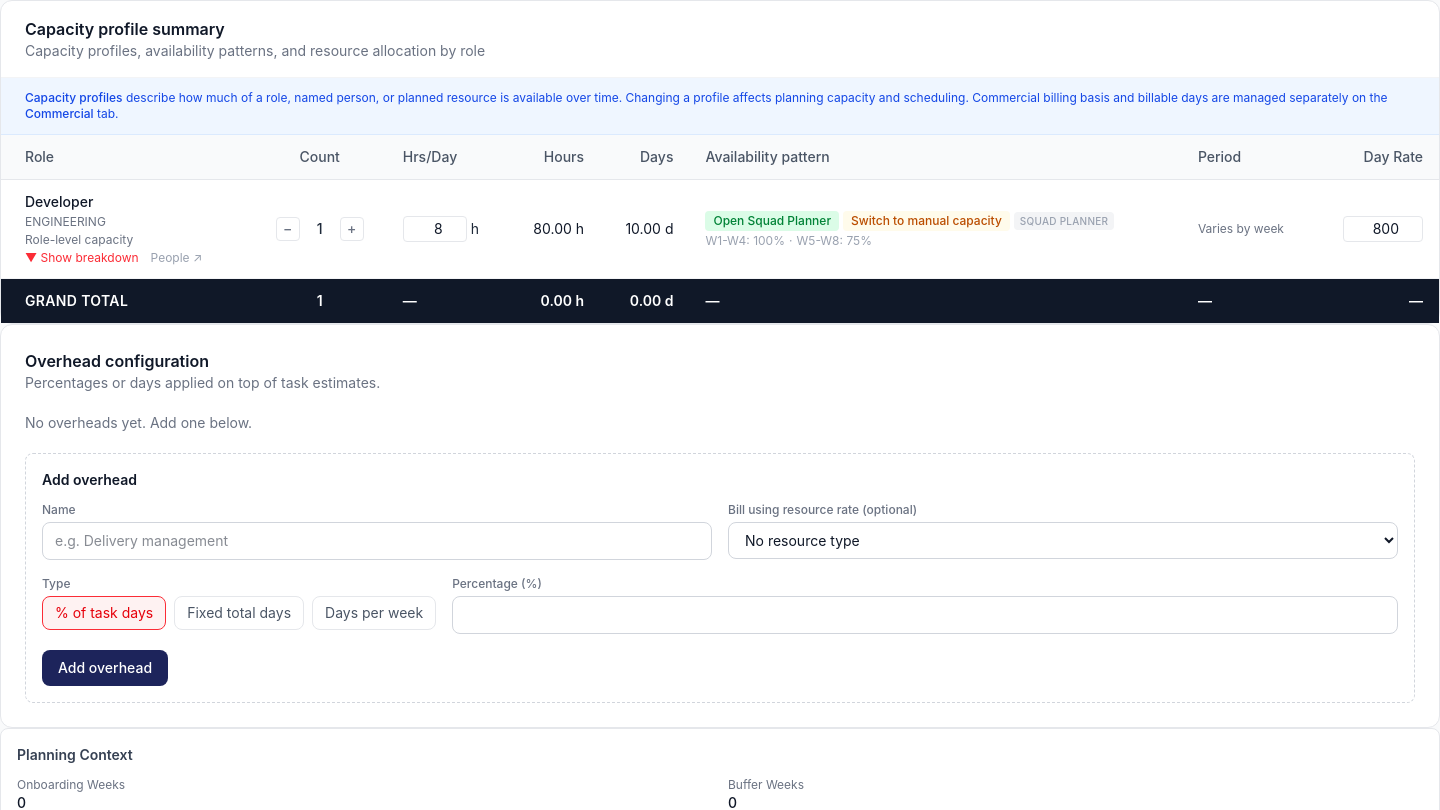
Test: Switch to manual capacity › prevents duplicate submission while transfer is in progress
This screenshot has width=1440, height=810.
Open dialog
Step 1. Click the button titled "Transfer this role" → coordinates (926, 220), box [843,210,1010,230]
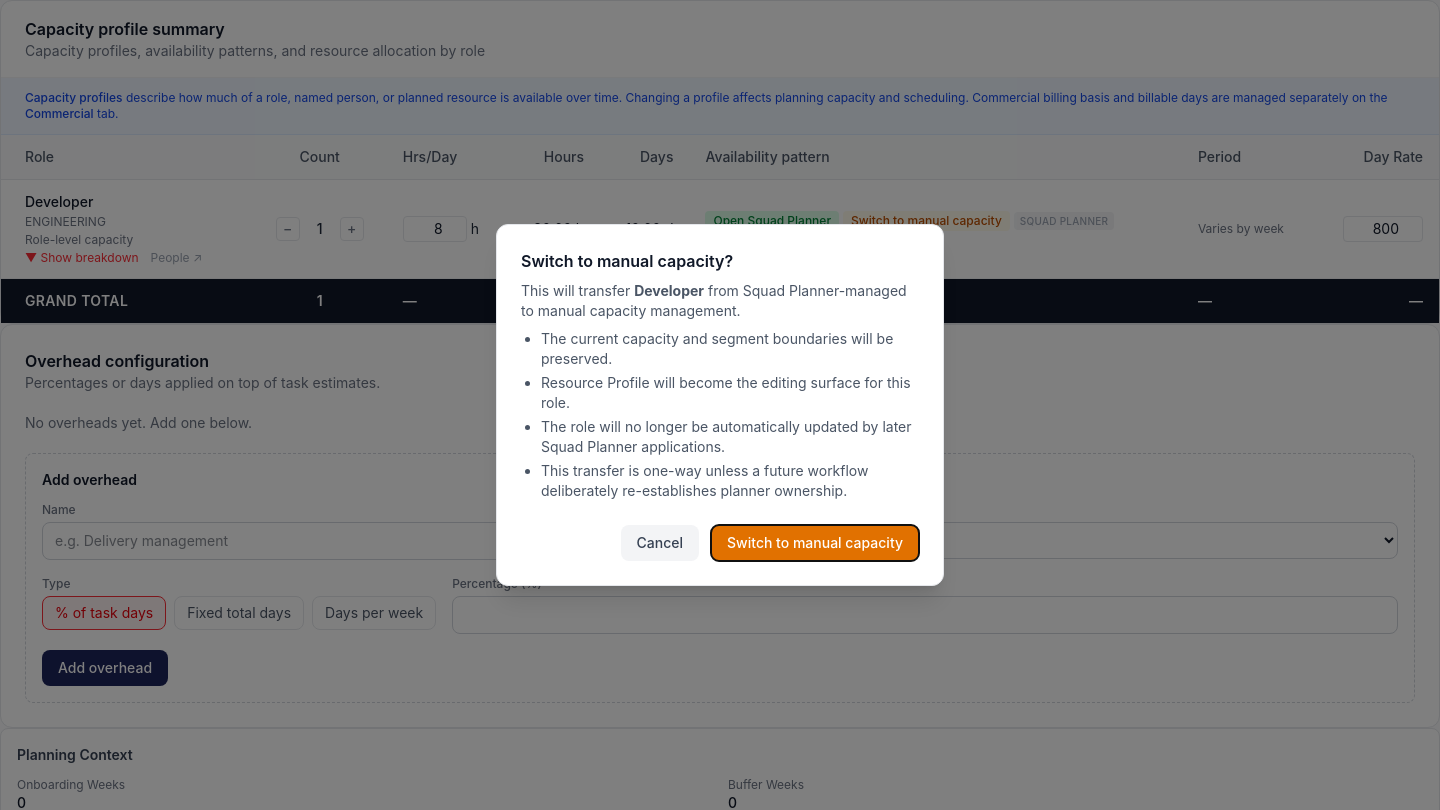
Now the dialog is shown
Confirm once — find button inside the dialog
Step 2. Click the button "Switch to manual capacity" → coordinates (815, 543), box [711,525,919,561]
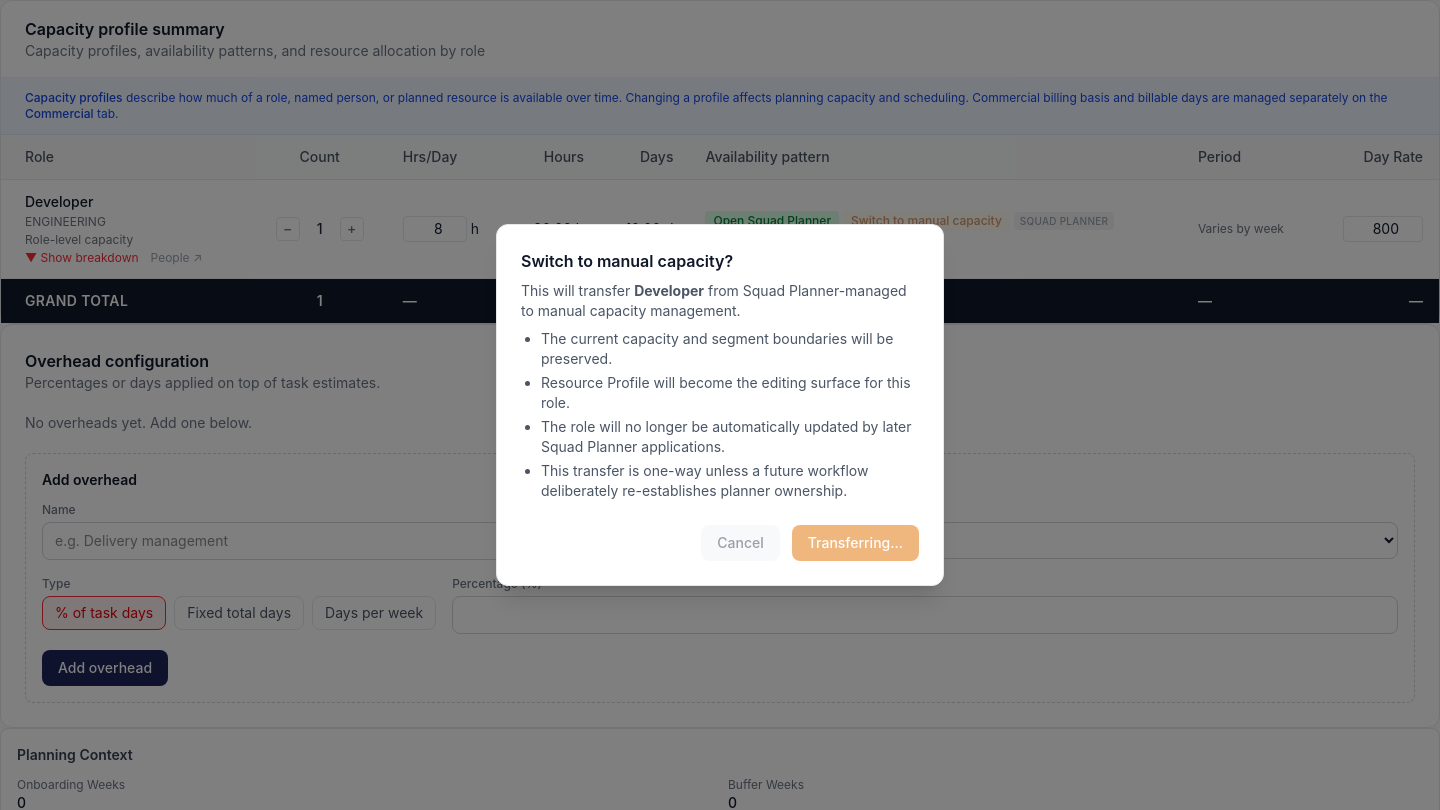
Now the button "Transferring…" is disabled, box [792,525,919,561]
